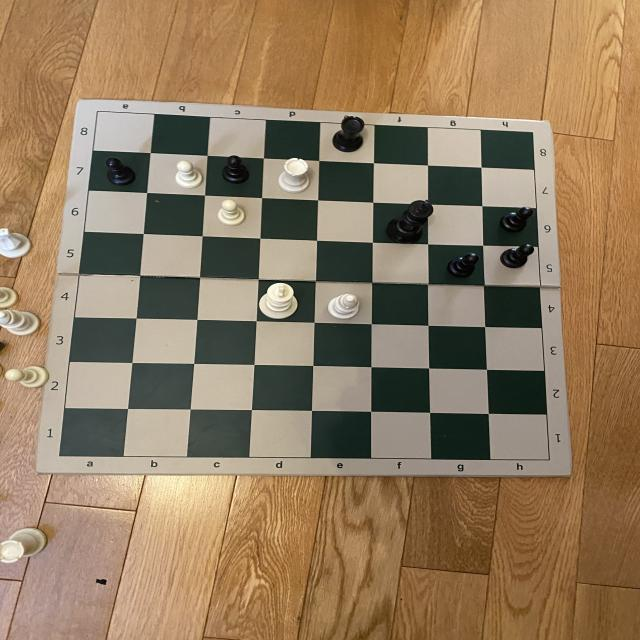Chessboard-Corners: (541, 452, 555, 464), (525, 129, 539, 139), (54, 450, 65, 460), (93, 109, 105, 115)
